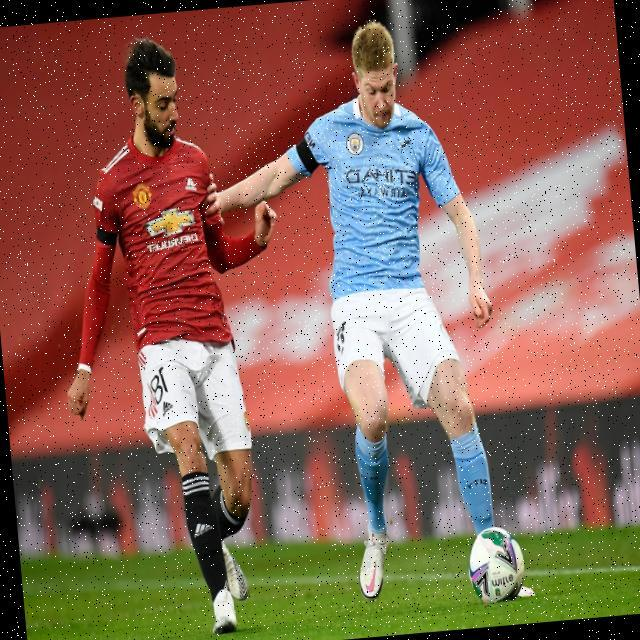Adidas: (183, 176, 196, 193), (161, 398, 174, 415)
Chevrolet: (143, 204, 199, 253)
Etihad Airways: (344, 162, 418, 203)
Puma: (396, 136, 411, 154)
